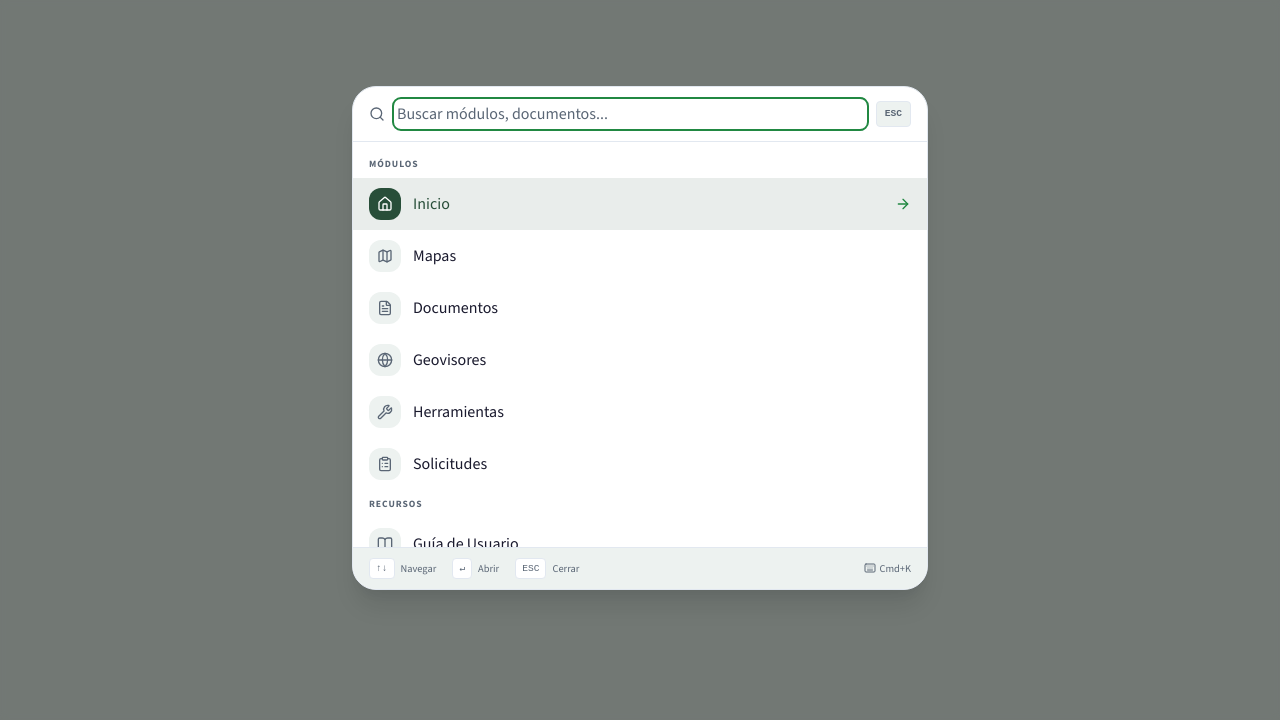
it: CommandPalette — resultados y agrupación › sin coincidencias, muestra el estado vacío con el término buscado
Type "xyz-inexistente" into the dropdown at {"x": 630, "y": 114}, box 397,102 -> 864,126
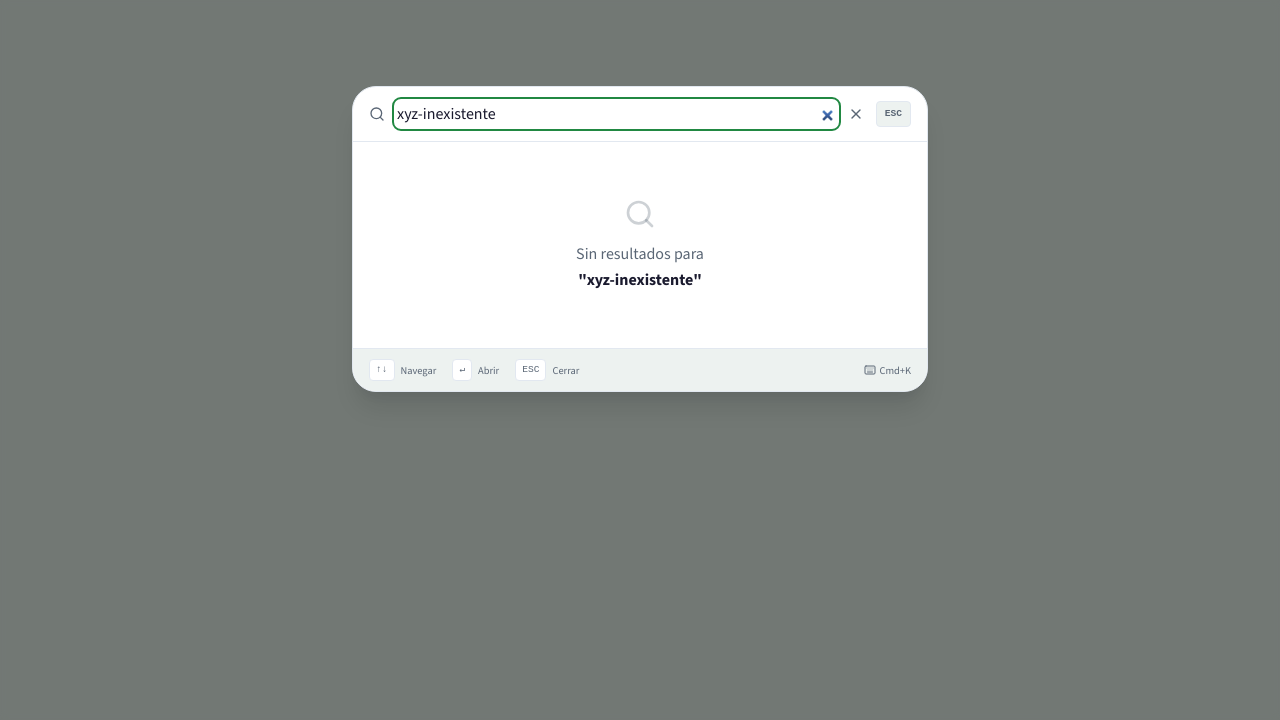
Result: the text "Sin resultados para" is shown at 576,242 -> 704,266
Result: the text "\"xyz-inexistente\"" is shown at 578,268 -> 702,292
